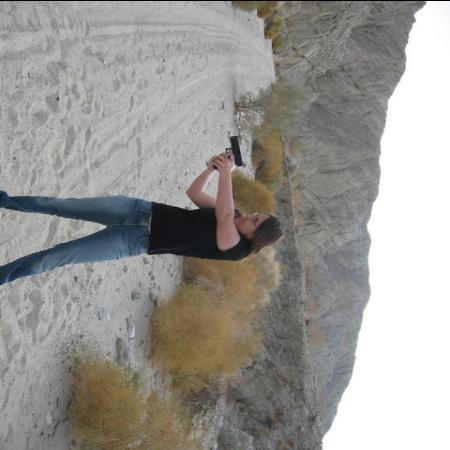Pistol: (208, 134, 246, 172)
